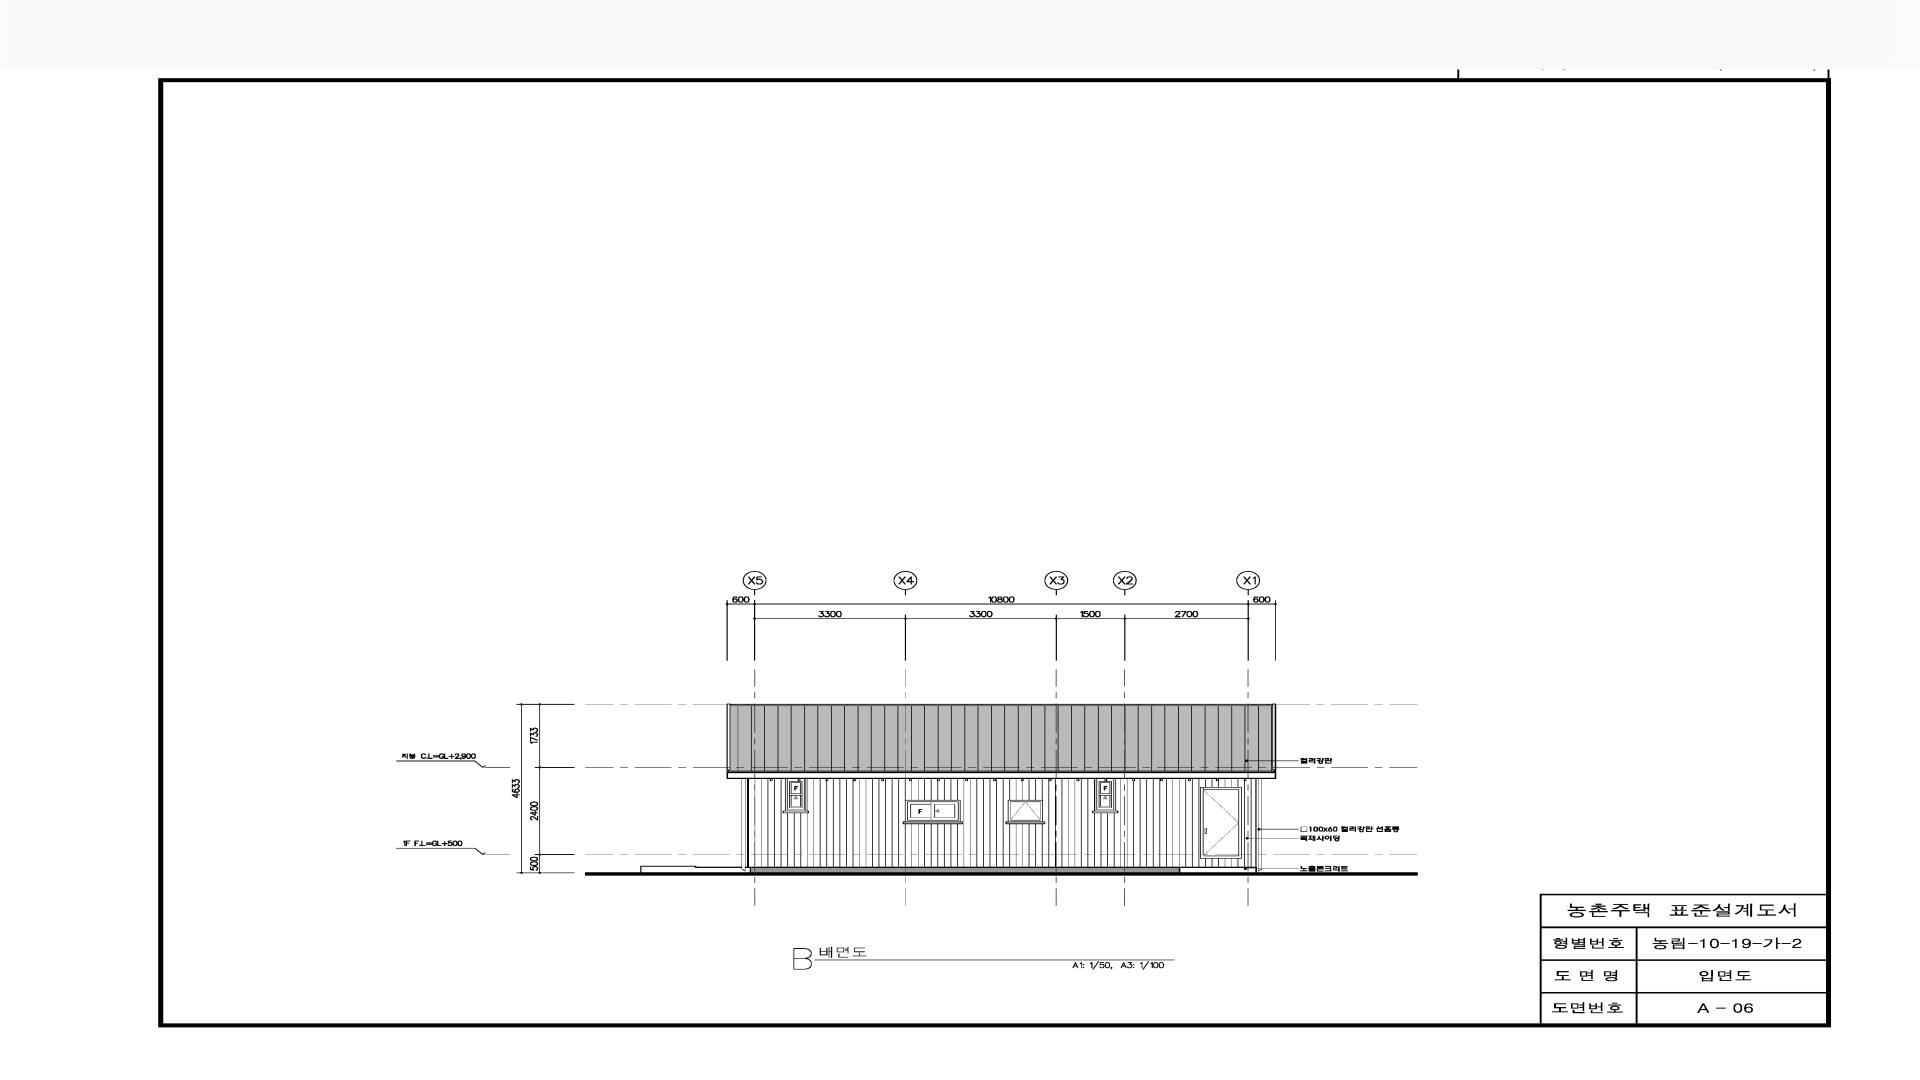door: (1200, 787, 1242, 859)
wall: (727, 703, 1276, 872), (1180, 867, 1257, 872)
window: (905, 800, 960, 822), (1008, 800, 1043, 822), (1094, 779, 1116, 811), (785, 779, 806, 811)
